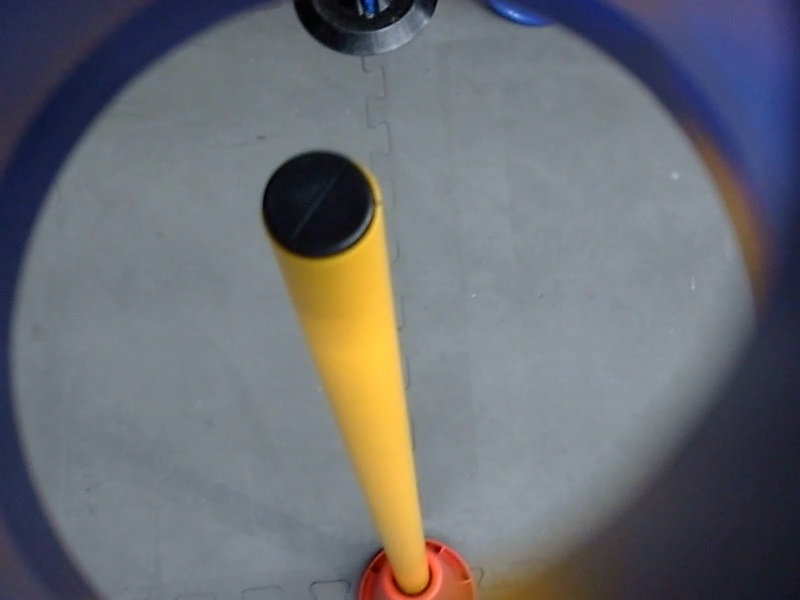tip: (246, 141, 392, 277)
